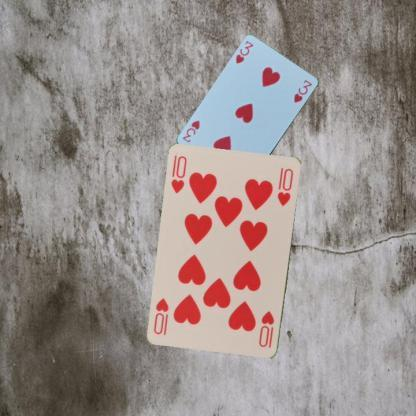10h: (256, 308, 276, 350), (168, 153, 188, 195)
3h: (233, 38, 255, 66)
